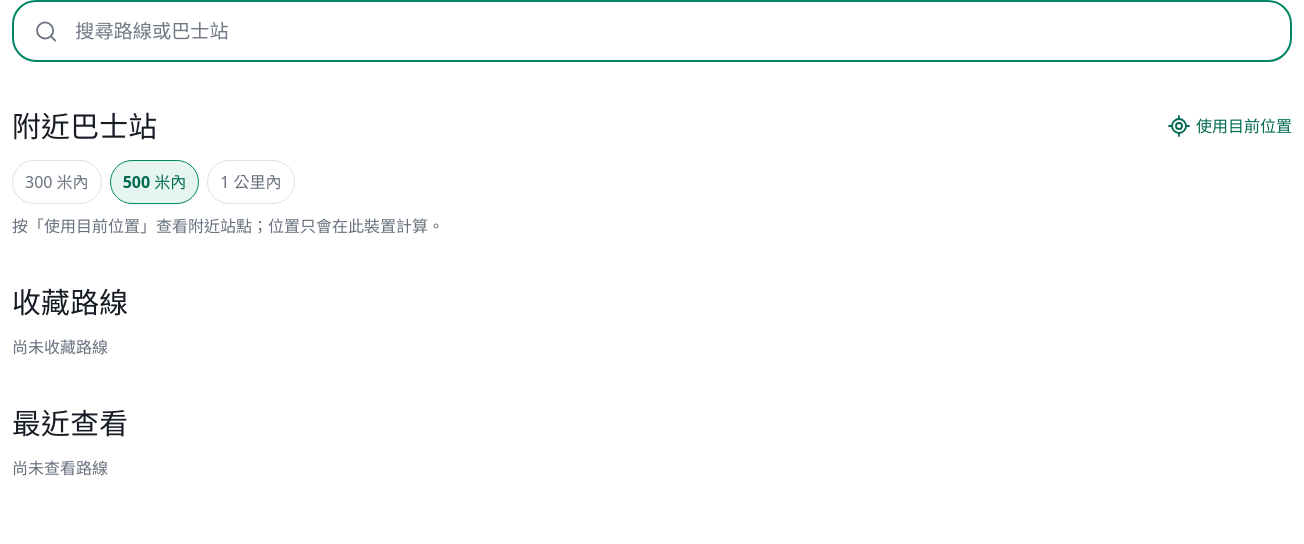
Test: HomePage › keeps the radius selector visible after permission-denied
Later steps or results of the test are not shown.
Step 1. Click the button "1 公里" → [251, 182], box [207,160,295,204]
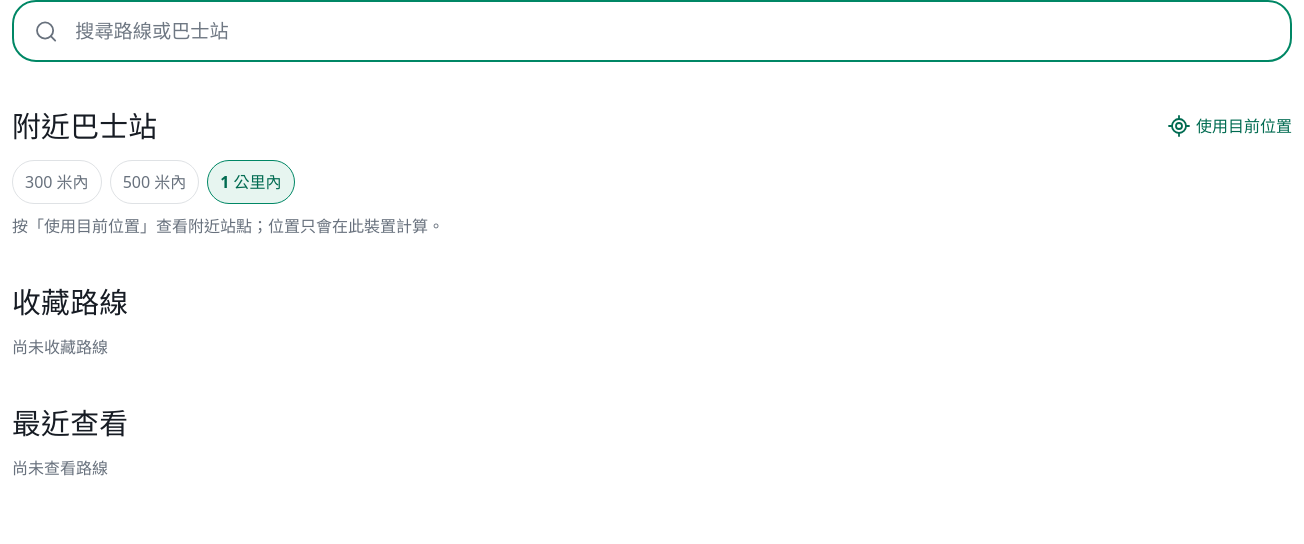
Step 2. Click the button "使用目前位置" → [1230, 126], box [1167,104,1292,148]
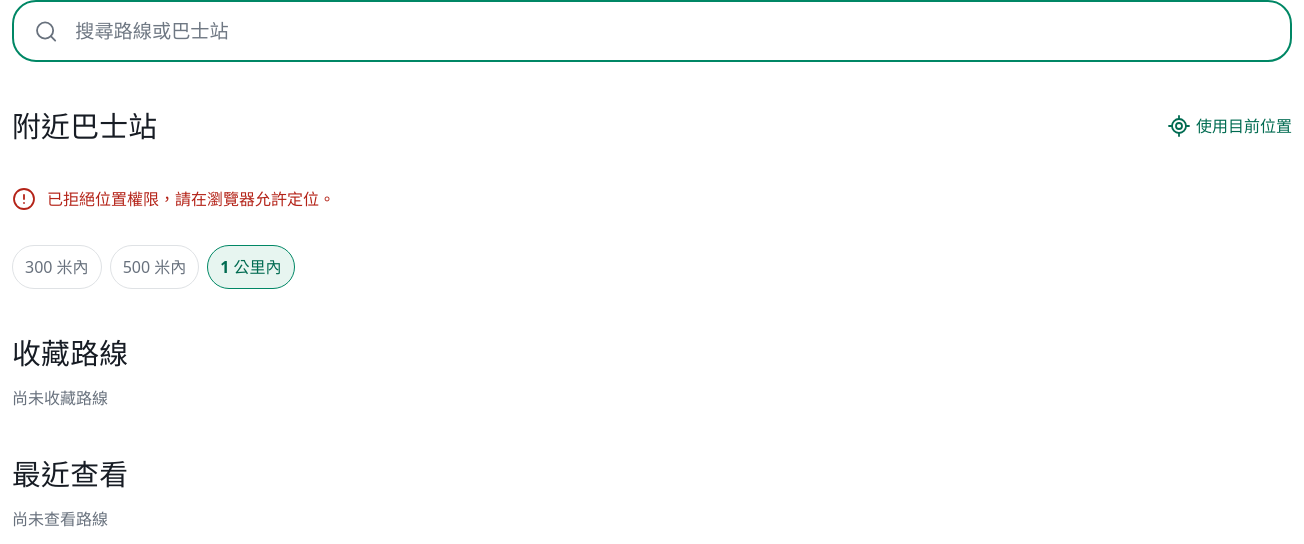
Expected: the button "300 米" is shown, [12,245,102,289]
Expected: the text "已拒絕位置權限，請在瀏覽器允許定位。" is shown, [47,188,335,210]
